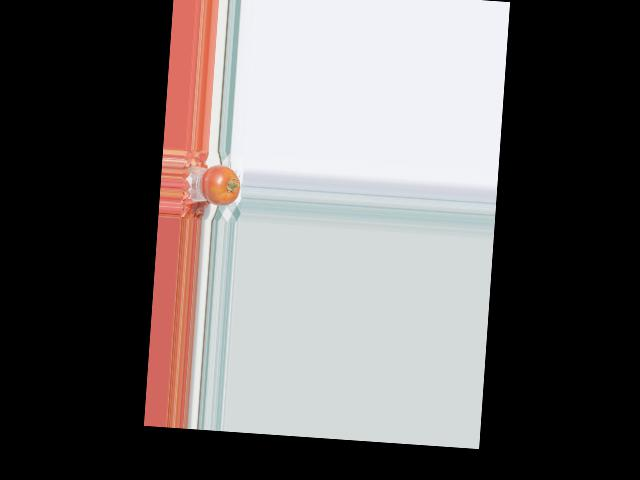tomato: (199, 163, 241, 207)
